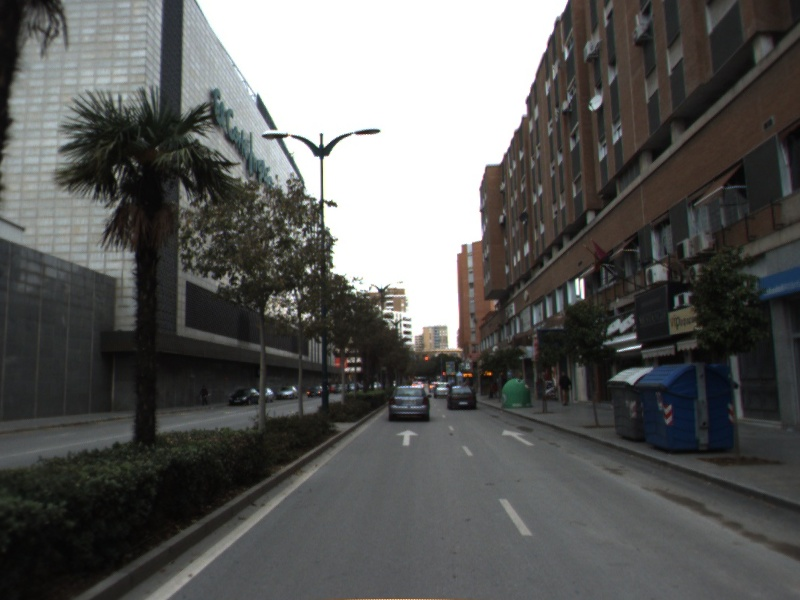STRAIGHT: (500, 427, 537, 448), (394, 428, 421, 448)
